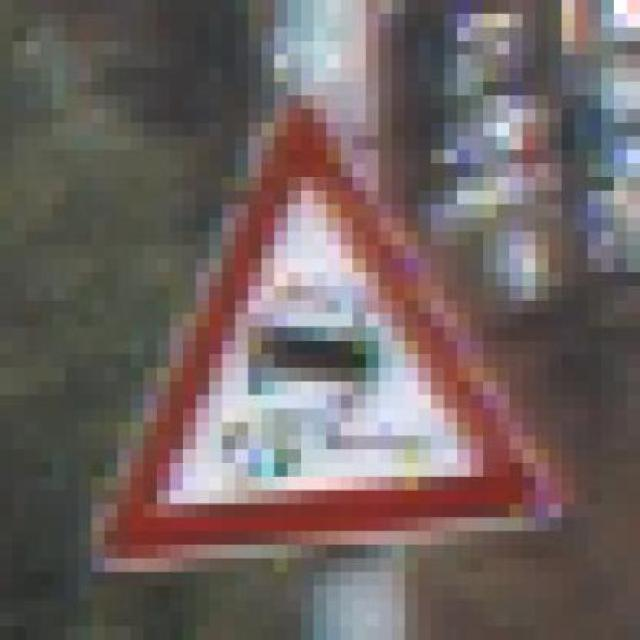Slippery Road Ahead: (92, 82, 600, 586)
